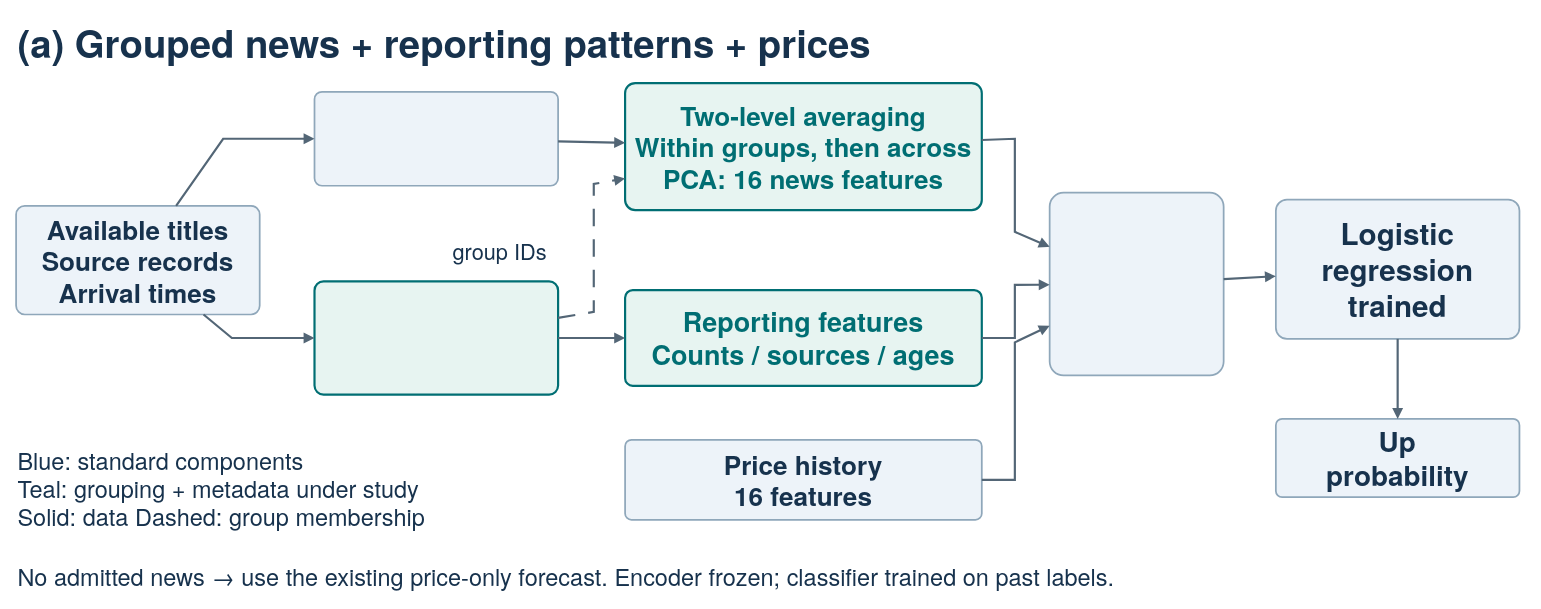
This 1541x609 diagram has some shape labels left out. The shapes that lost their labels are listed below. From the top down, each one's centre as x and y in pixels, then its label:
point 436,138: FinBERT Frozen encoder
point 1136,283: Combine 16 news 6 reporting 16 price
point 436,337: Group reports Word similarity + fact checks
